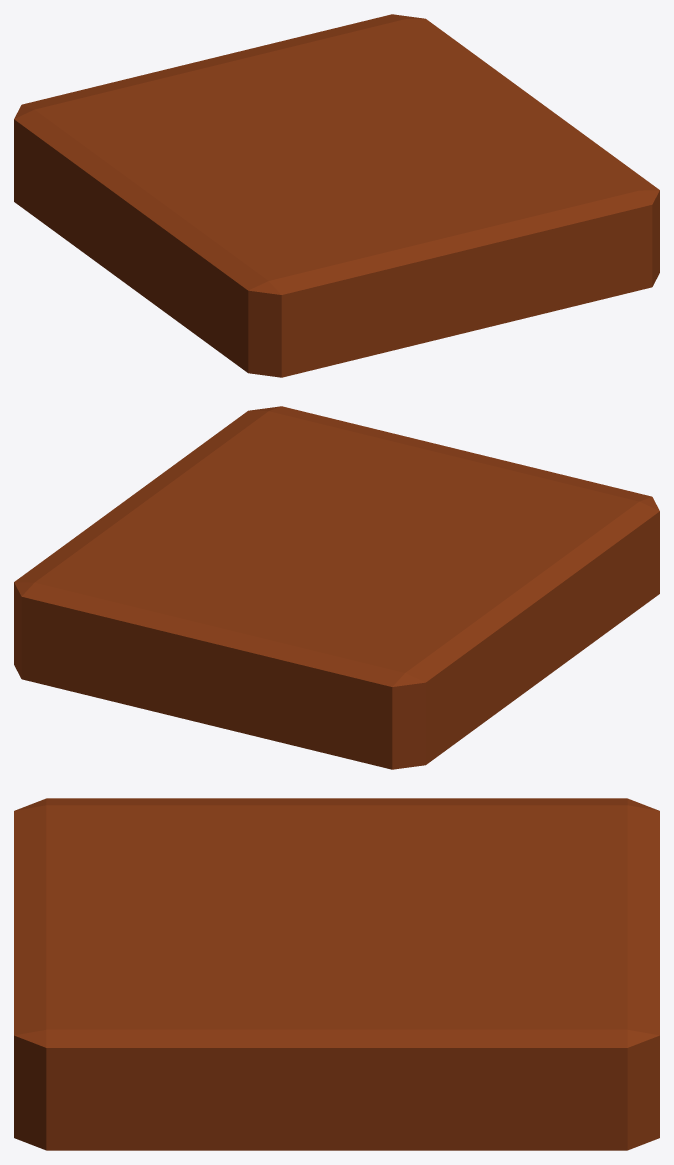
Rendered from PLatform.fbx.
3 views of the same model, one above another, from view 1: azimuth 30°, elevation 25°; view 2: azimuth 150°, elevation 25°; view 3: azimuth 270°, elevation 25° (orthographic). The views are drawn at different scales.
Visible parts, largest first — view 1: Cube; view 2: Cube; view 3: Cube.
Boxes of the visible parts, x1,y1,x2,y2 form: Cube: [14, 14, 659, 377]; Cube: [14, 406, 659, 769]; Cube: [14, 798, 659, 1150].
Size of the model in its own units: 655 by 140 by 717.
